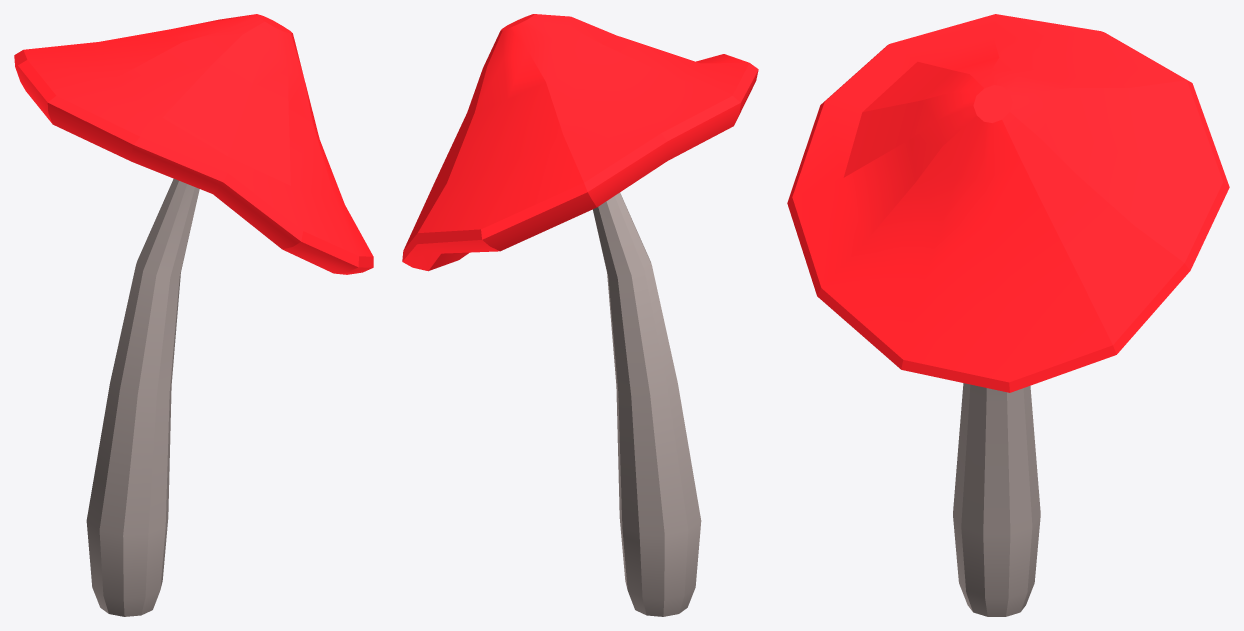
Rendered from mushroom.fbx.
3 views of the same model, side by side, from view 1: azimuth 30°, elevation 25°; view 2: azimuth 150°, elevation 25°; view 3: azimuth 270°, elevation 25° (orthographic). The views are drawn at different scales.
Parts seen in each view (by area): view 1: Cylinder.003; view 2: Cylinder.003; view 3: Cylinder.003.
Part boxes in pixels (<box>): Cylinder.003: <box>14,14,373,616</box>; Cylinder.003: <box>402,14,758,616</box>; Cylinder.003: <box>787,14,1229,616</box>.
Bounding box in the file's own units: 957 × 1708 × 1168.
